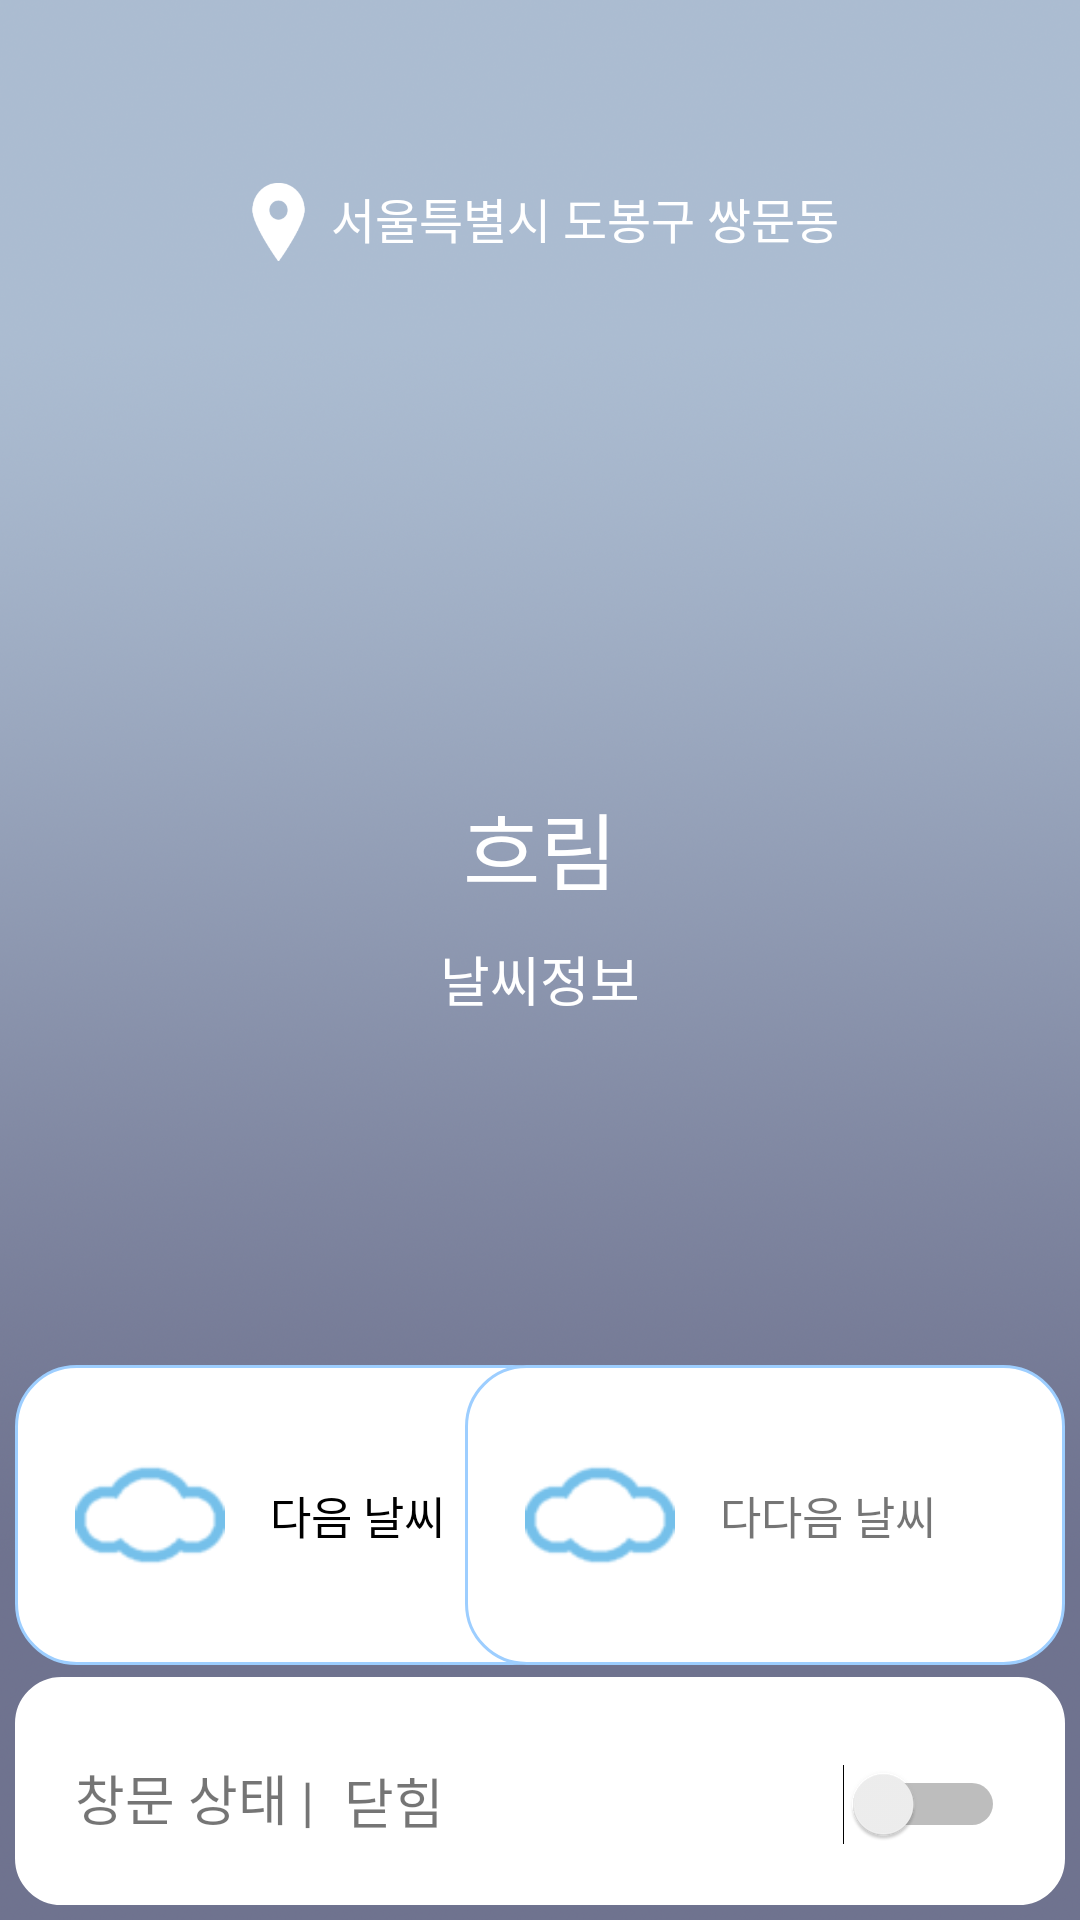

Point at icon controls on the screen. Image size 1080 × 1920, points as [x,y].
weather status cloudy: [150,1515], [600,1515]
window location: [278,222]
